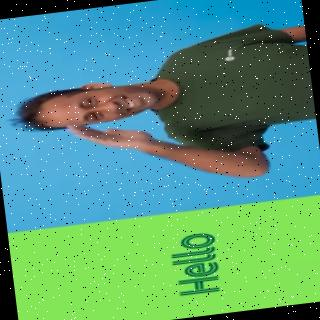Hello: (1, 17, 320, 205)
